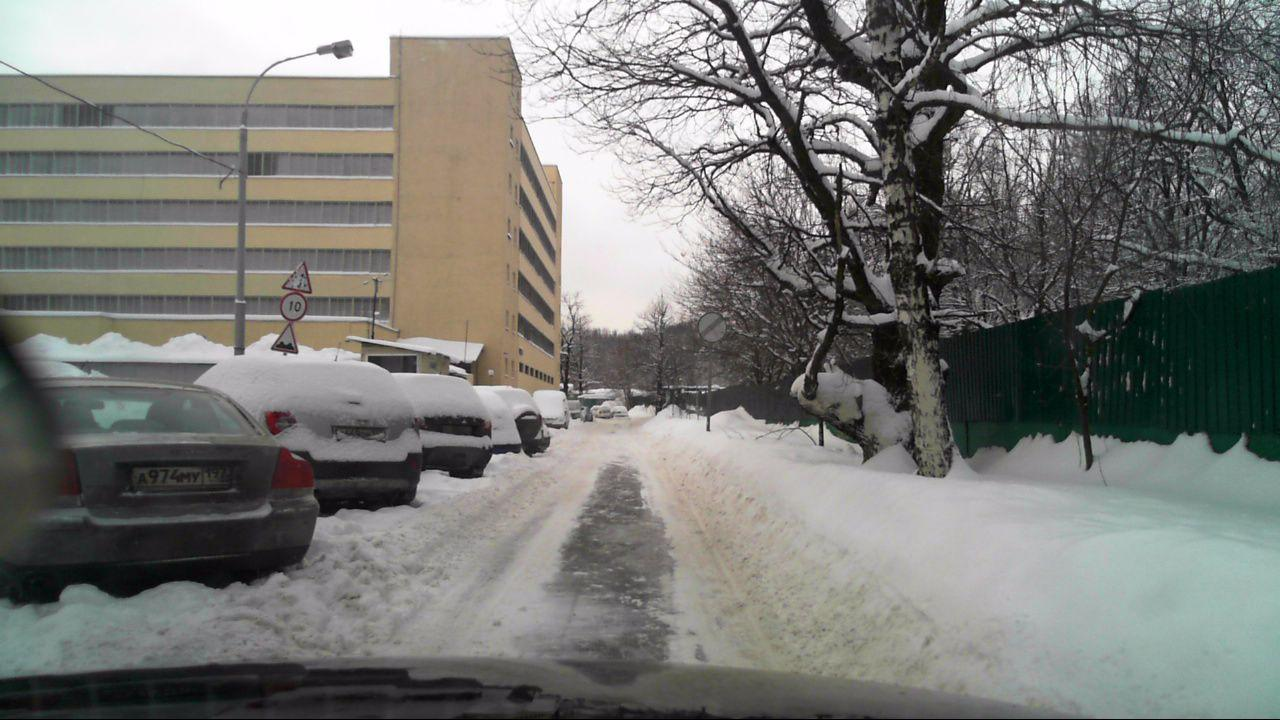1_15: (270, 323, 301, 354)
3_24: (281, 291, 306, 320)
3_31: (697, 312, 727, 343)
